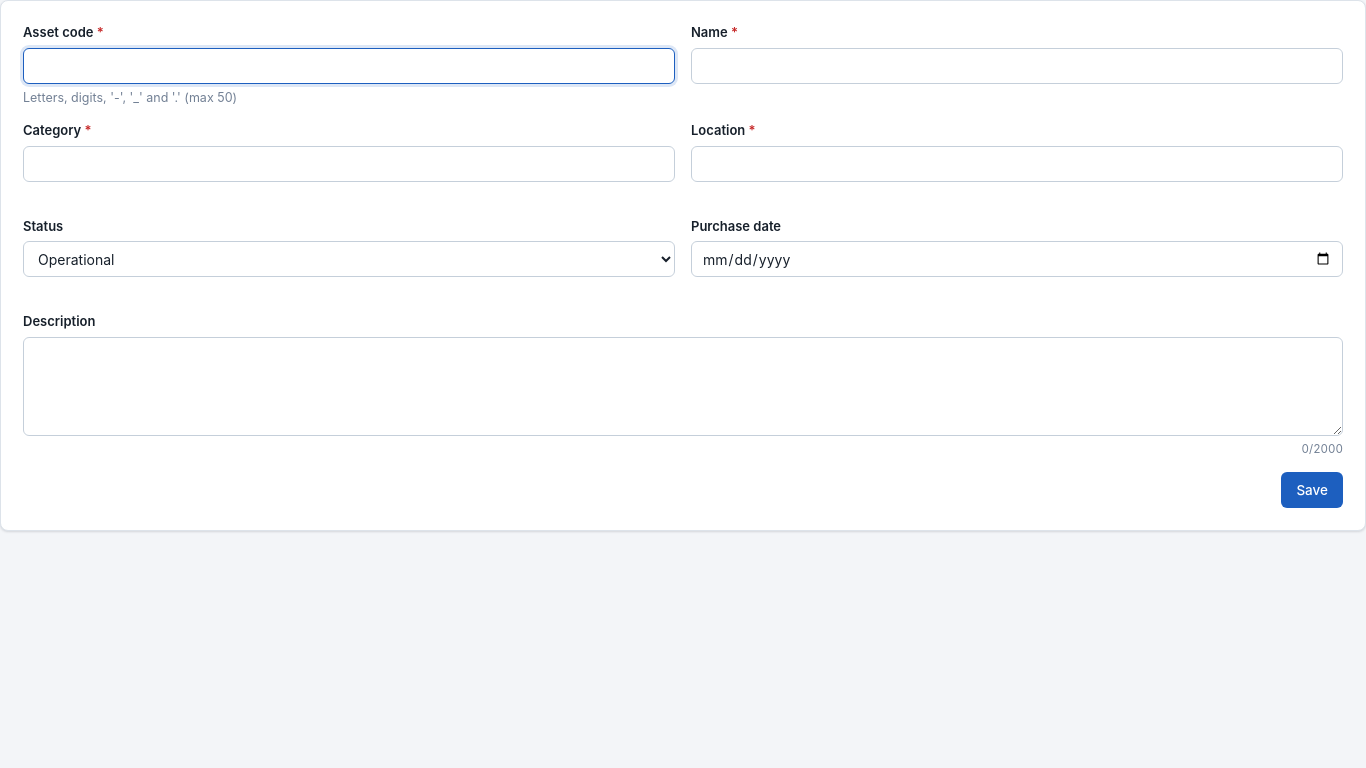
Test: AssetForm › validates required fields and the asset-code pattern on the client
The width and height of the screenshot is (1366, 768).
Type "-bad code" into the field labelled "Asset code *".
click(349, 66); type("-bad code")  # box [23,48,675,84]
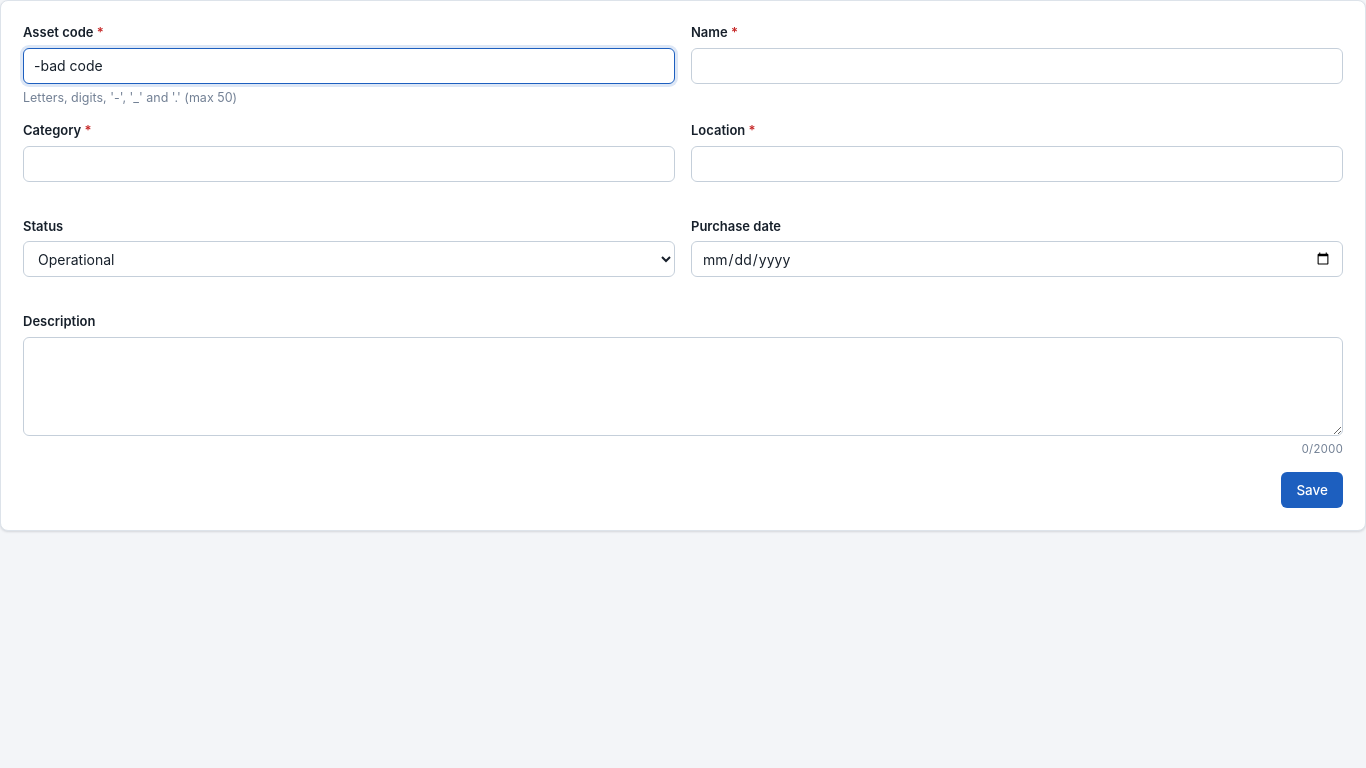
Click the button "Save".
click(1312, 490)  # box [1281,472,1343,508]
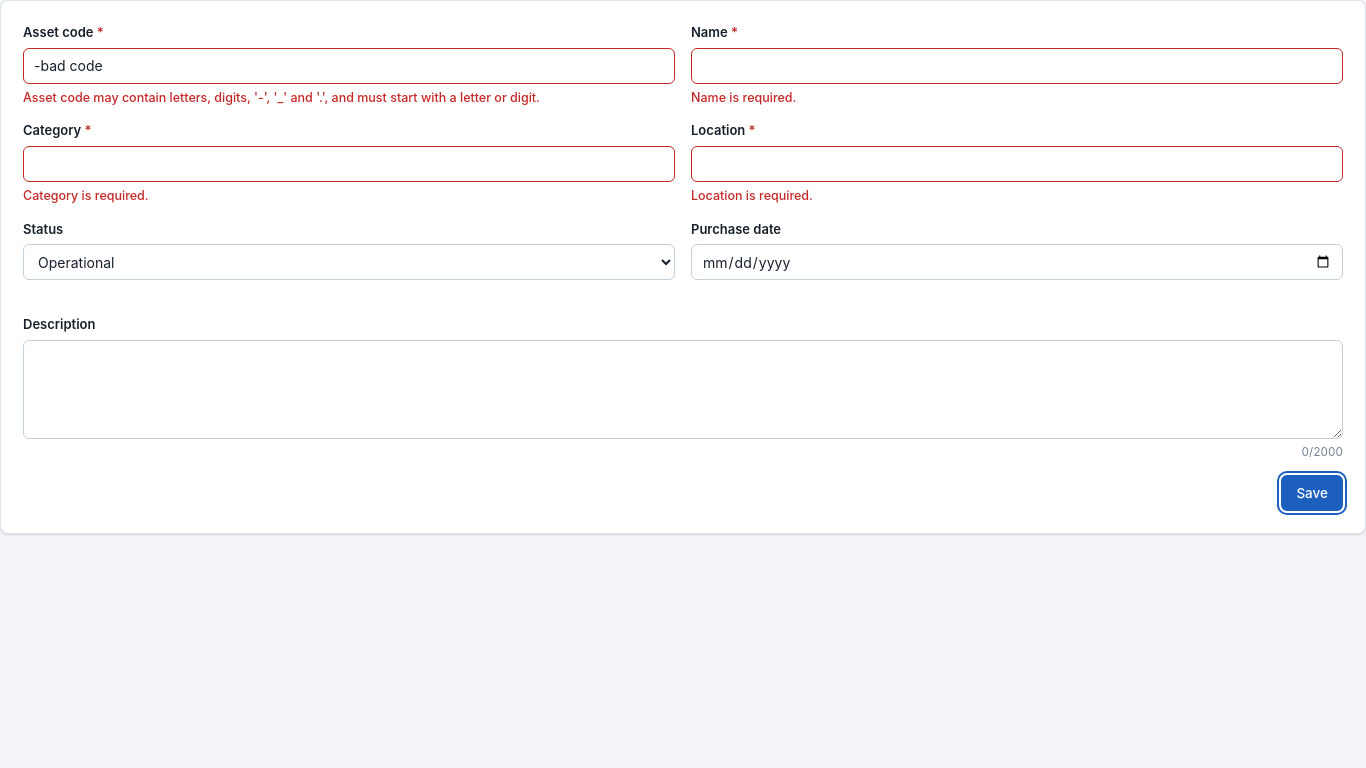
Check: the text "Asset code may contain letters, digits" is shown, box [23,90,540,104]
Check: the text "Name is required." is shown, box [691,88,796,107]
Check: the text "Category is required." is shown, box [23,187,149,206]
